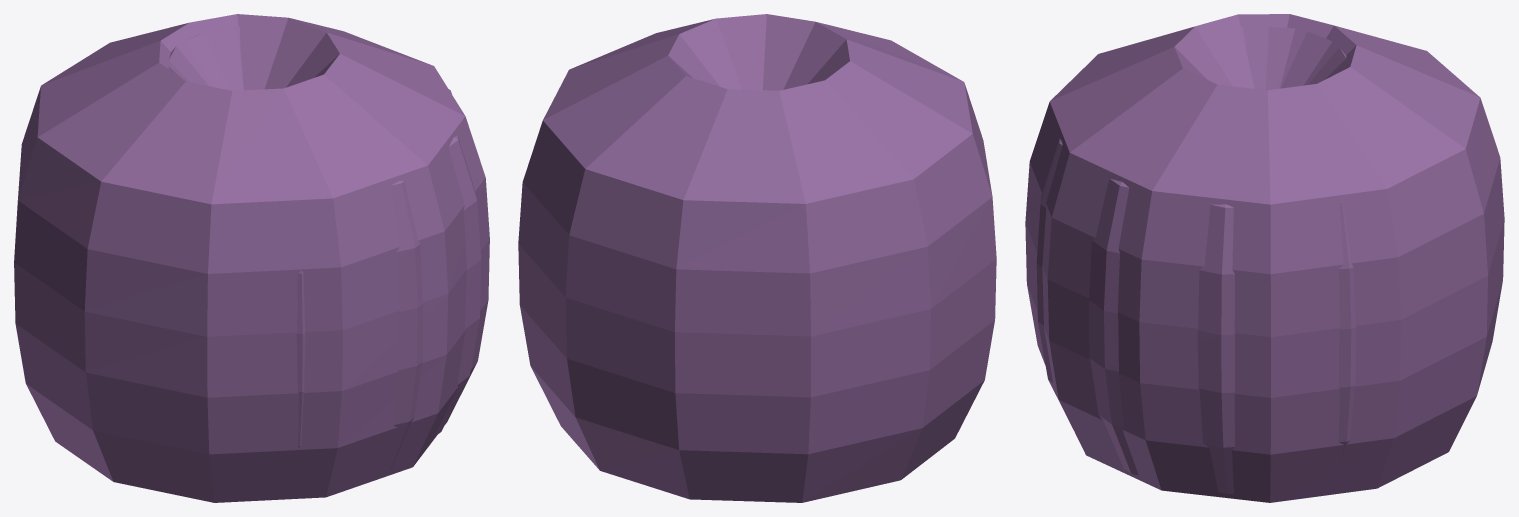
The model's file is berries.glb.
The picture shows the model from 3 angles, left to right: view 1: azimuth 30°, elevation 25°; view 2: azimuth 150°, elevation 25°; view 3: azimuth 270°, elevation 25°; orthographic projection.
Visible parts, largest first — view 1: Blueberry_1, Blueberry_0; view 2: Blueberry_1; view 3: Blueberry_1, Blueberry_0.
Part boxes in pixels (x1,y1,x2,y2): Blueberry_1: (14, 14, 489, 502); Blueberry_0: (168, 26, 481, 472); Blueberry_1: (518, 14, 996, 502); Blueberry_1: (1025, 14, 1504, 502); Blueberry_0: (1036, 26, 1356, 493).
Bounding box in the file's own units: 0.2315 × 0.23 × 0.2332.
